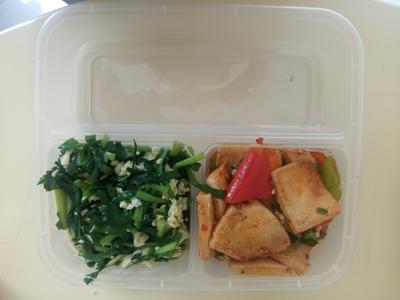cdfp: (209, 149, 328, 267)
jdjc: (49, 148, 187, 276)
